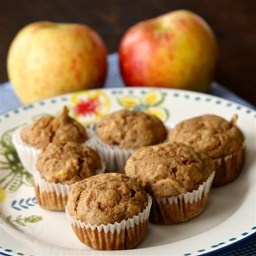background: (4, 42, 98, 100), (41, 3, 88, 37), (2, 8, 43, 42)
